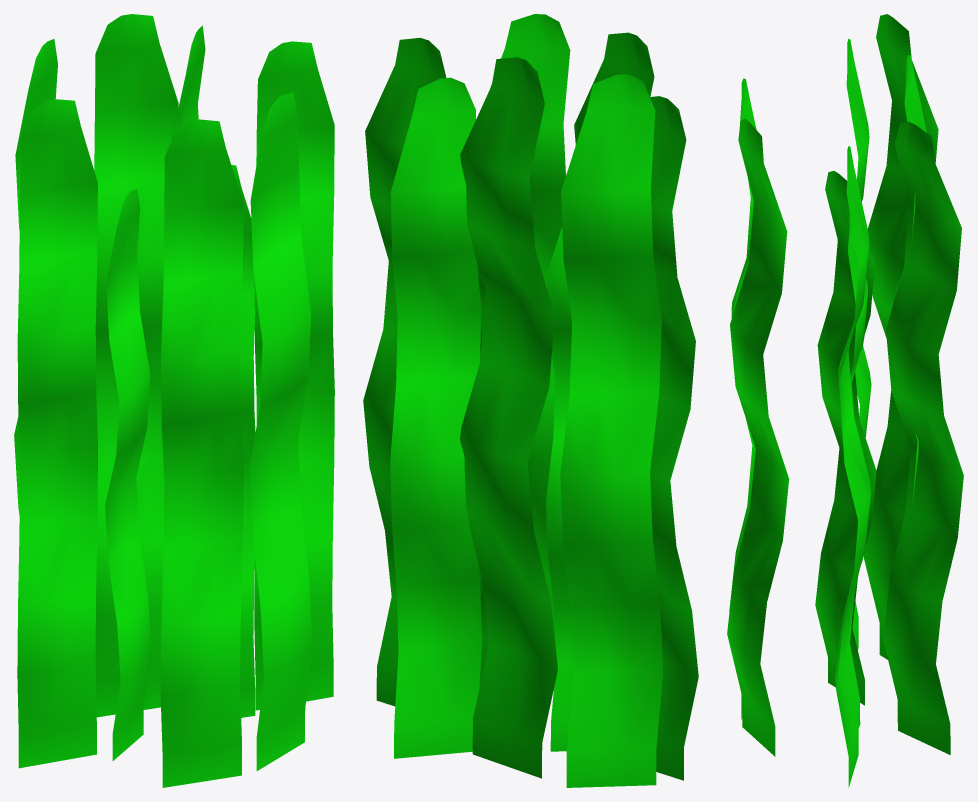
Rendered from Seaweed_2.fbx.
The picture shows the model from 3 angles, left to right: view 1: azimuth 30°, elevation 25°; view 2: azimuth 150°, elevation 25°; view 3: azimuth 270°, elevation 25°; orthographic projection. The views are drawn at different scales.
Visible parts, largest first — view 1: Seaweed_2; view 2: Seaweed_2; view 3: Seaweed_2.
Boxes of the visible parts, bbox=[...] form: Seaweed_2: bbox=[14, 14, 334, 787]; Seaweed_2: bbox=[363, 14, 698, 787]; Seaweed_2: bbox=[727, 14, 963, 787].
Size of the model in its own units: 121 by 249 by 82.05.
